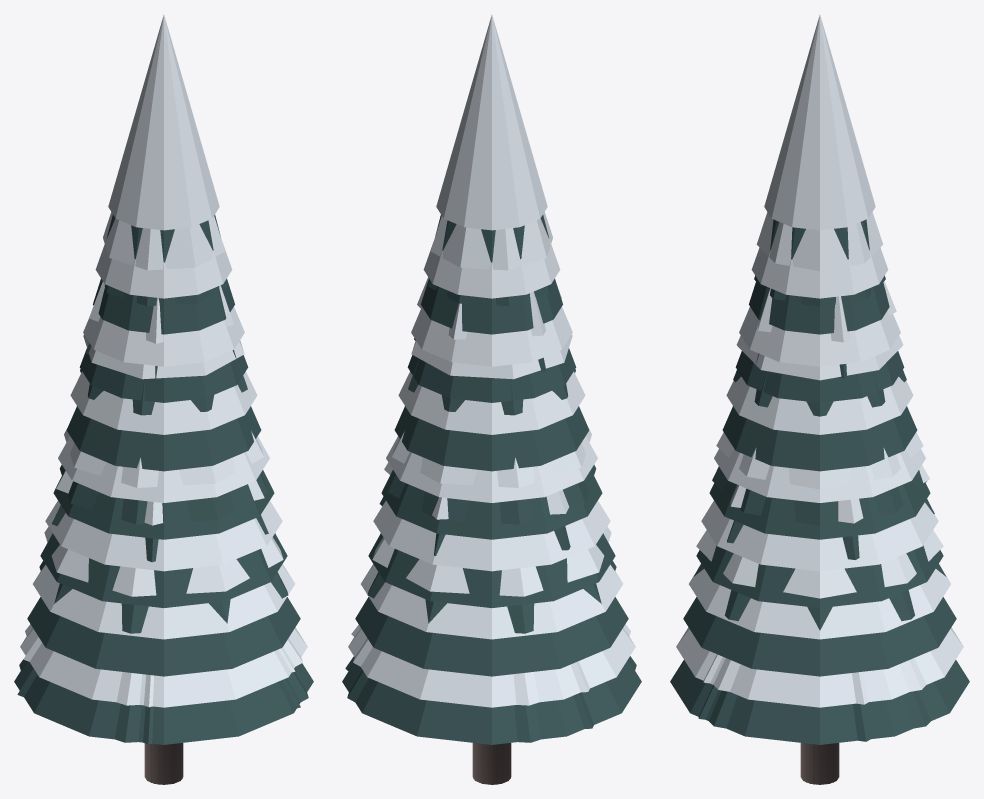
The model's file is Pine1.fbx.
3 renders of one model, left to right at view 1: azimuth 30°, elevation 25°; view 2: azimuth 150°, elevation 25°; view 3: azimuth 270°, elevation 25°, orthographic.
Visible parts, largest first — view 1: Tree_LOD0_7_snow, Tree_LOD0_1_needles, Tree_LOD0_0_needles, Tree_LOD0_0_snow, Tree_LOD0_2_snow, Tree_LOD0_1_snow, Tree_LOD0_4_needles, Tree_LOD0_2_needles, Tree_LOD0_4_snow, Tree_LOD0_3_needles, Tree_LOD0_5_snow, Tree_LOD0_3_snow (+20 smaller); view 2: Tree_LOD0_7_snow, Tree_LOD0_1_needles, Tree_LOD0_0_needles, Tree_LOD0_0_snow, Tree_LOD0_2_snow, Tree_LOD0_1_snow, Tree_LOD0_4_needles, Tree_LOD0_2_needles, Tree_LOD0_4_snow, Tree_LOD0_3_needles, Tree_LOD0_5_snow, Tree_LOD0_3_snow (+17 smaller); view 3: Tree_LOD0_7_snow, Tree_LOD0_1_needles, Tree_LOD0_0_needles, Tree_LOD0_0_snow, Tree_LOD0_2_snow, Tree_LOD0_1_snow, Tree_LOD0_4_needles, Tree_LOD0_2_needles, Tree_LOD0_4_snow, Tree_LOD0_3_needles, Tree_LOD0_5_snow, Tree_LOD0_3_snow (+20 smaller).
Part boxes in pixels (left/top/right/bottom): Tree_LOD0_7_snow: left=108, top=15, right=219, bottom=230; Tree_LOD0_1_needles: left=27, top=597, right=300, bottom=676; Tree_LOD0_0_needles: left=14, top=661, right=313, bottom=744; Tree_LOD0_0_snow: left=20, top=627, right=307, bottom=707; Tree_LOD0_2_snow: left=45, top=501, right=282, bottom=571; Tree_LOD0_1_snow: left=33, top=564, right=294, bottom=639; Tree_LOD0_4_needles: left=66, top=406, right=261, bottom=471; Tree_LOD0_2_needles: left=40, top=533, right=287, bottom=607; Tree_LOD0_4_snow: left=70, top=371, right=257, bottom=434; Tree_LOD0_3_needles: left=53, top=470, right=274, bottom=539; Tree_LOD0_5_snow: left=83, top=307, right=244, bottom=366; Tree_LOD0_3_snow: left=58, top=436, right=269, bottom=502; Tree_LOD0_7_snow: left=436, top=15, right=547, bottom=230; Tree_LOD0_1_needles: left=355, top=597, right=628, bottom=676; Tree_LOD0_0_needles: left=342, top=660, right=641, bottom=744; Tree_LOD0_0_snow: left=348, top=628, right=635, bottom=707; Tree_LOD0_2_snow: left=373, top=501, right=610, bottom=571; Tree_LOD0_1_snow: left=361, top=564, right=622, bottom=639; Tree_LOD0_4_needles: left=394, top=406, right=589, bottom=471; Tree_LOD0_2_needles: left=368, top=533, right=615, bottom=607; Tree_LOD0_4_snow: left=398, top=371, right=585, bottom=434; Tree_LOD0_3_needles: left=381, top=470, right=602, bottom=539; Tree_LOD0_5_snow: left=411, top=307, right=572, bottom=366; Tree_LOD0_3_snow: left=386, top=436, right=597, bottom=502; Tree_LOD0_7_snow: left=764, top=15, right=875, bottom=230; Tree_LOD0_1_needles: left=683, top=597, right=956, bottom=676; Tree_LOD0_0_needles: left=670, top=660, right=969, bottom=744; Tree_LOD0_0_snow: left=676, top=627, right=963, bottom=707; Tree_LOD0_2_snow: left=701, top=501, right=938, bottom=571; Tree_LOD0_1_snow: left=689, top=569, right=950, bottom=639; Tree_LOD0_4_needles: left=722, top=406, right=917, bottom=471; Tree_LOD0_2_needles: left=696, top=545, right=943, bottom=607; Tree_LOD0_4_snow: left=726, top=376, right=913, bottom=434; Tree_LOD0_3_needles: left=709, top=480, right=930, bottom=539; Tree_LOD0_5_snow: left=739, top=307, right=900, bottom=366; Tree_LOD0_3_snow: left=714, top=449, right=925, bottom=502.
Bounding box in the file's own units: 3.2 × 8.98 × 3.2.
